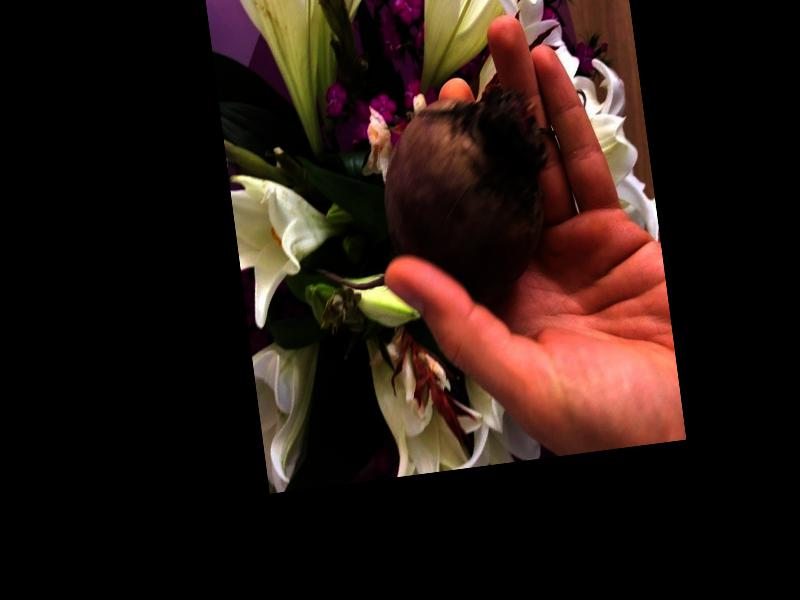Beet: (295, 84, 558, 320)
